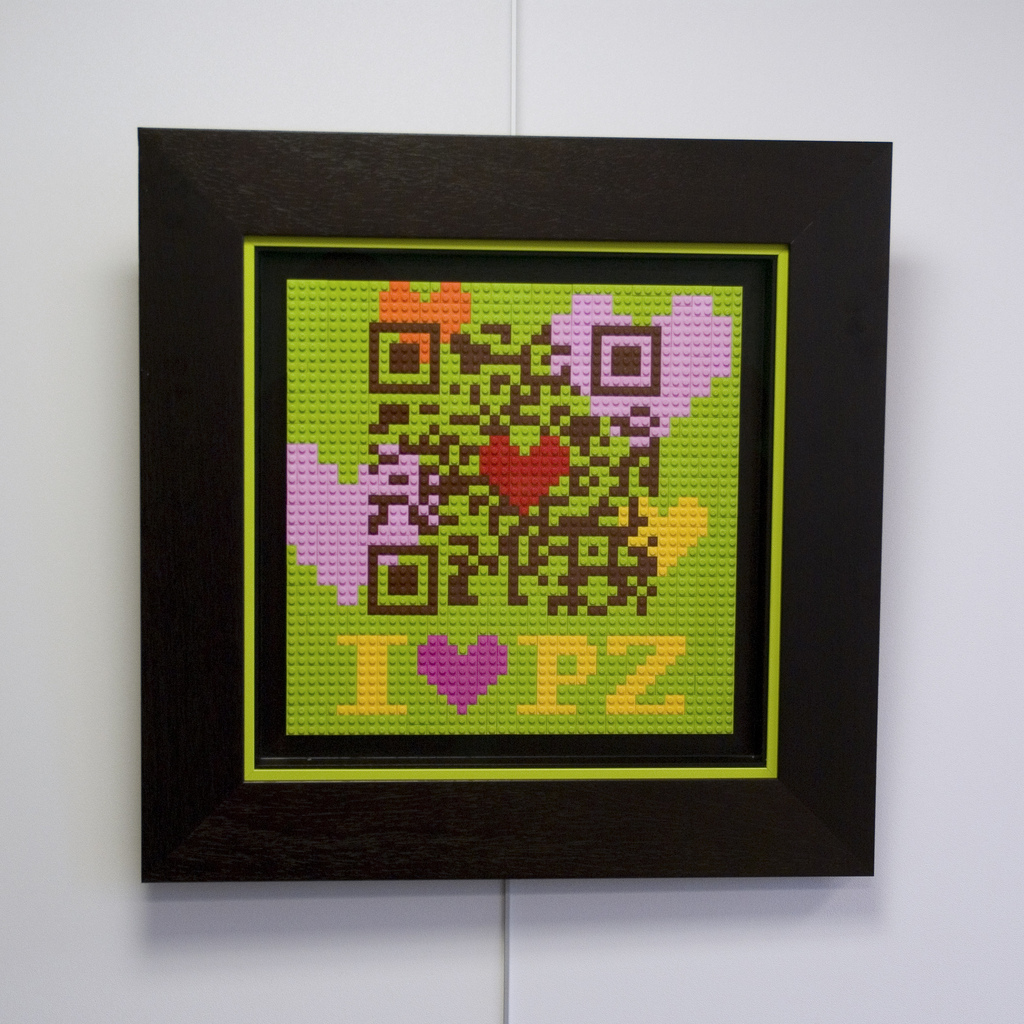QR-CODE: (368, 322, 660, 615)
